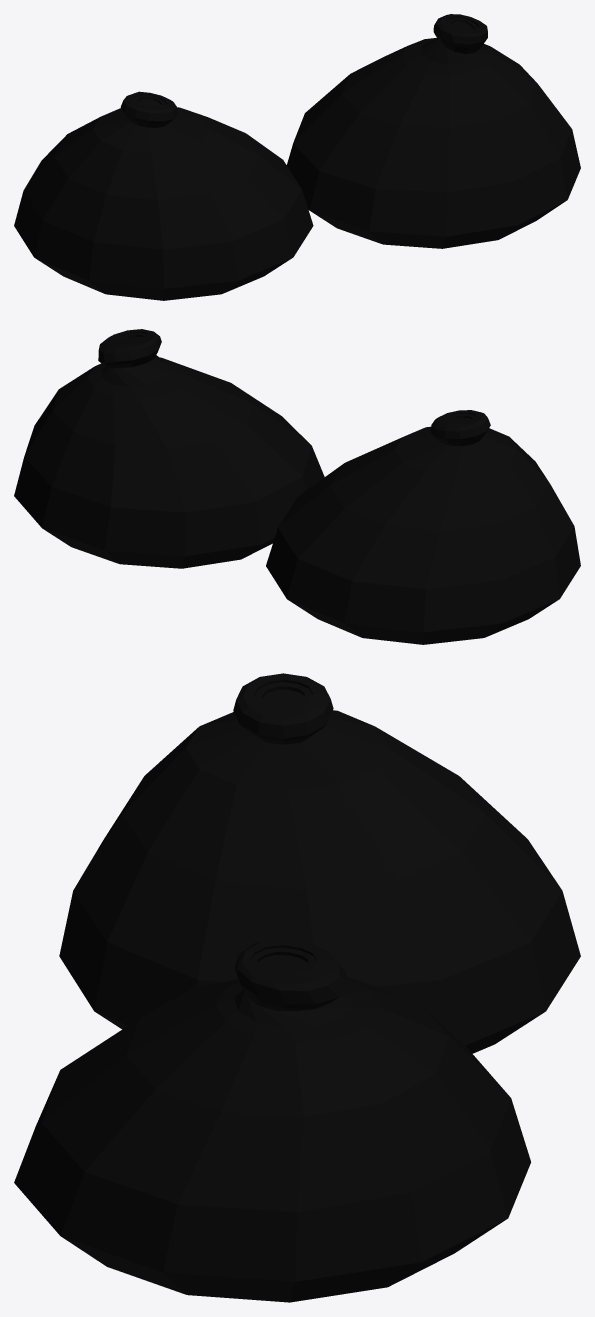
Rendered from trash-bag.glb.
3 renders of one model, top to bottom at view 1: azimuth 30°, elevation 25°; view 2: azimuth 150°, elevation 25°; view 3: azimuth 270°, elevation 25°, orthographic. The views are drawn at different scales.
Visible parts, largest first — view 1: Circle.002_5, Circle.001_4; view 2: Circle.001_4, Circle.002_5; view 3: Circle.002_5, Circle.001_4.
Part boxes in pixels (left/top/right/bottom): Circle.002_5: left=286, top=14, right=580, bottom=248; Circle.001_4: left=14, top=91, right=313, bottom=300; Circle.001_4: left=266, top=410, right=580, bottom=644; Circle.002_5: left=14, top=329, right=324, bottom=568; Circle.002_5: left=14, top=939, right=530, bottom=1302; Circle.001_4: left=59, top=673, right=580, bottom=1053.
Size of the model in its own units: 8.93 by 2.78 by 4.91.
Materials: 1 (1 with a texture image).
